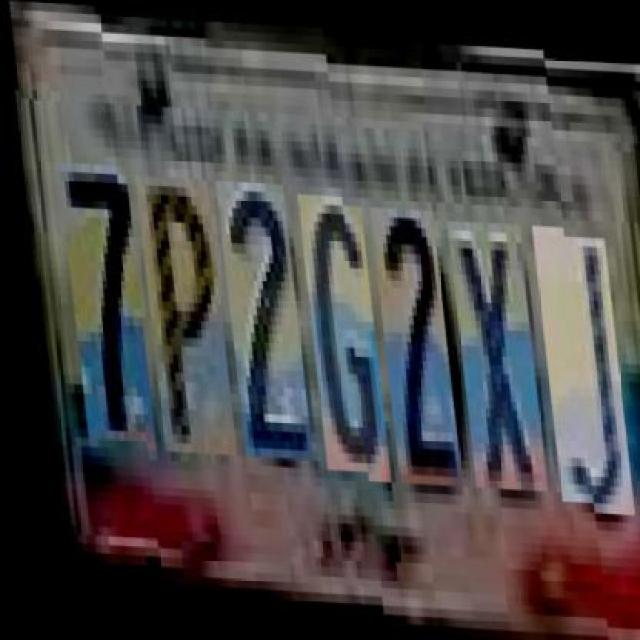2: (212, 177, 303, 457), (364, 194, 451, 472)
7: (56, 170, 146, 450)
g: (292, 191, 380, 469)
j: (526, 210, 623, 490)
p: (131, 174, 227, 454)
x: (441, 206, 537, 477)
